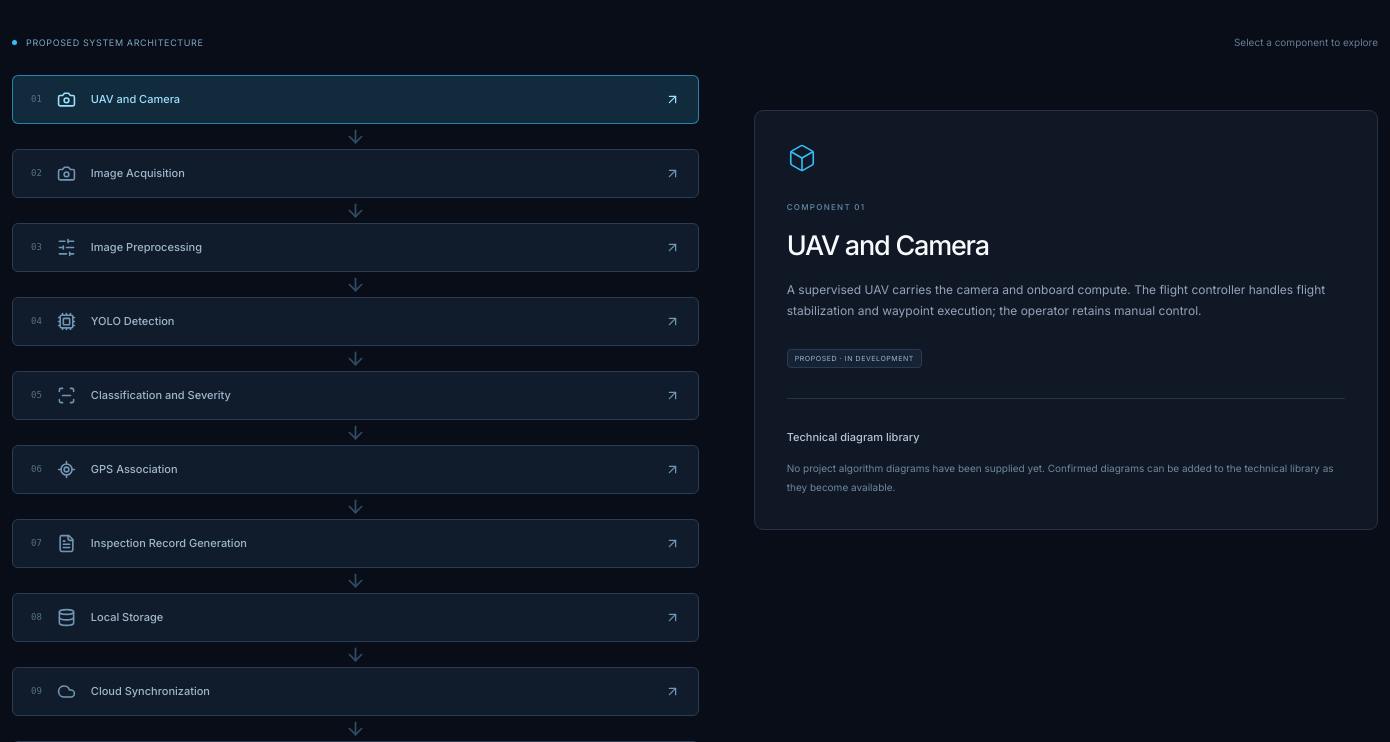
Test: architecture components reveal their corresponding technical descriptions
Click the button "04 YOLO Detection" at (133, 321), box x1=12 y1=297 x2=699 y2=346
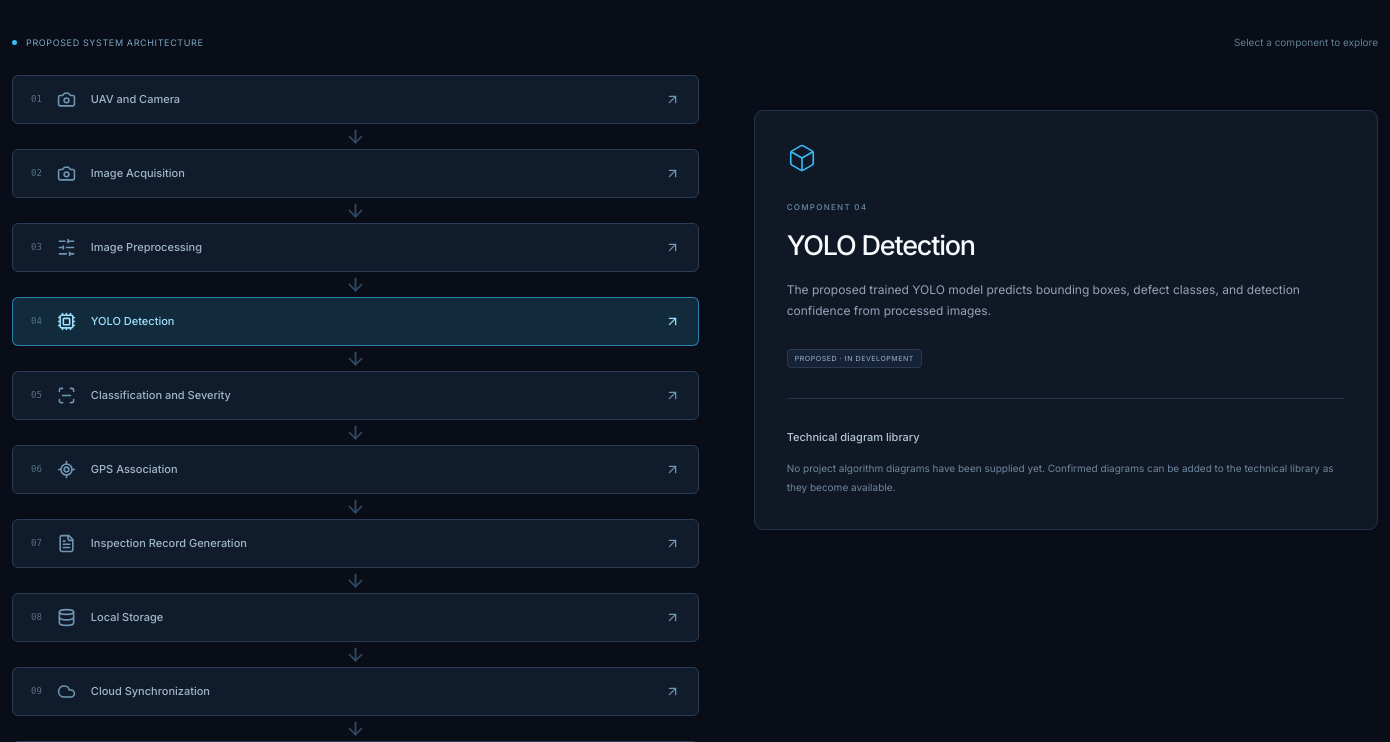
Expected: the heading "YOLO Detection" is shown, x1=787 y1=229 x2=975 y2=262
Expected: the text "predicts bounding boxes, defect classes, and detection confidence" is shown, x1=787 y1=282 x2=1300 y2=318
Click the button "09 Cloud Synchronization" at (150, 691), box x1=12 y1=667 x2=699 y2=716
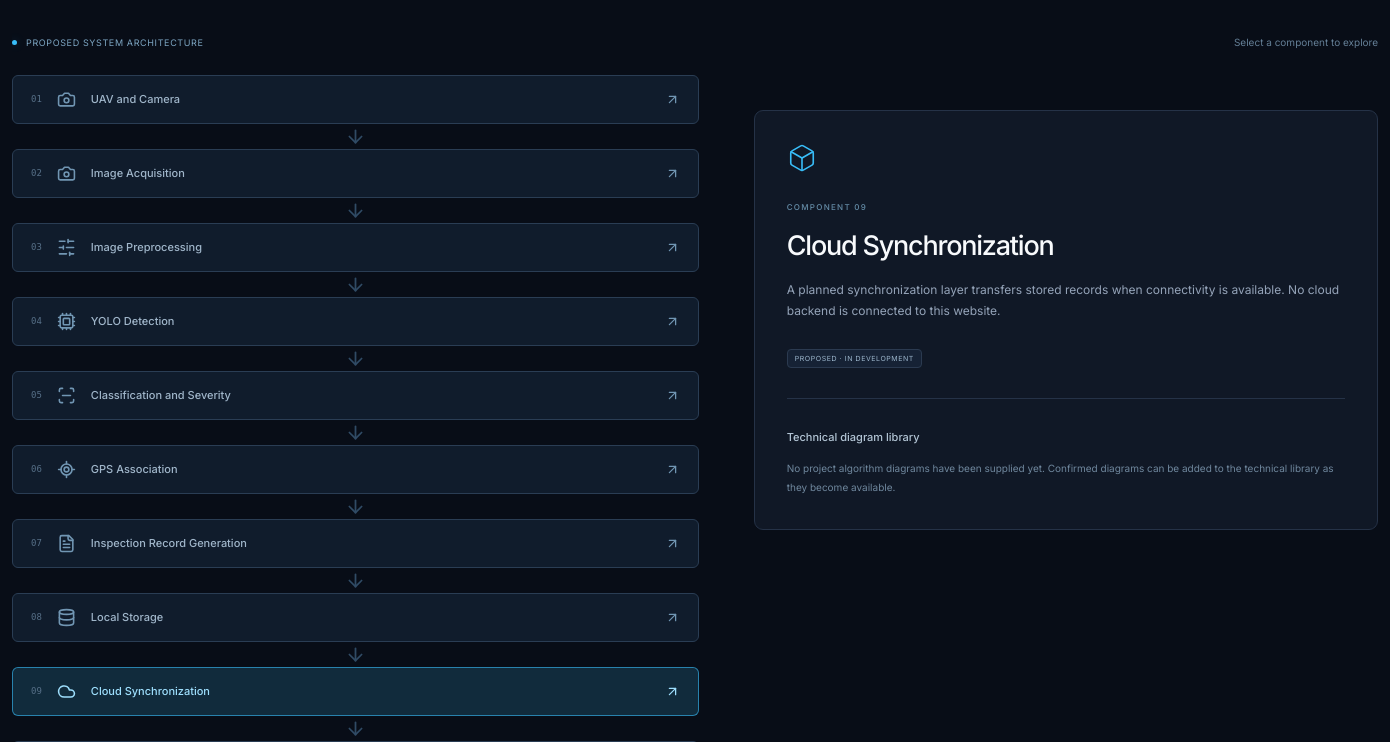
Expected: the text "No cloud backend is connected" is shown, x1=787 y1=282 x2=1339 y2=318
